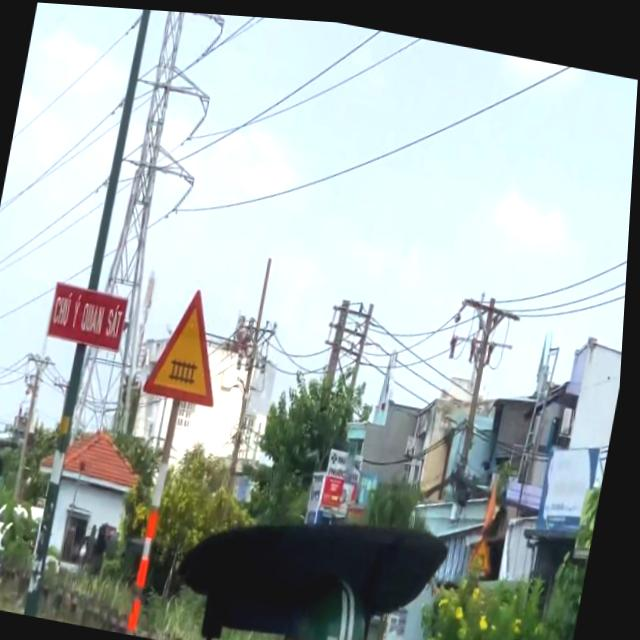Giao nhau voi duong sat co rao chan: (146, 279, 237, 406)
